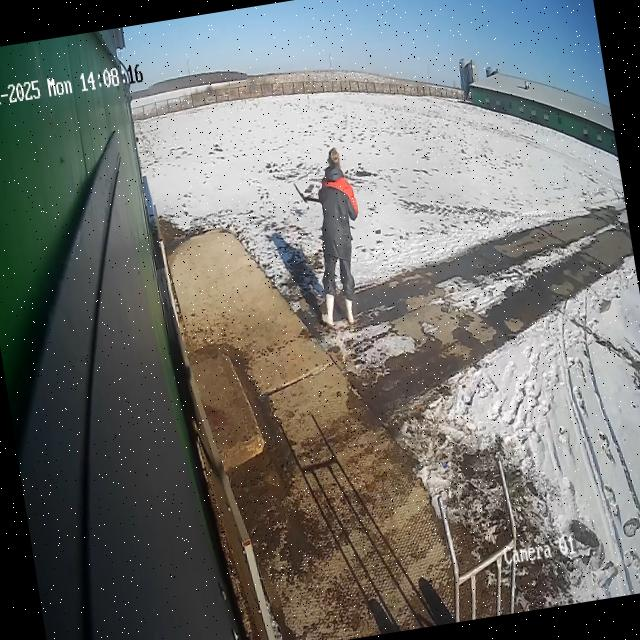Red uniform: (300, 148, 358, 327)
